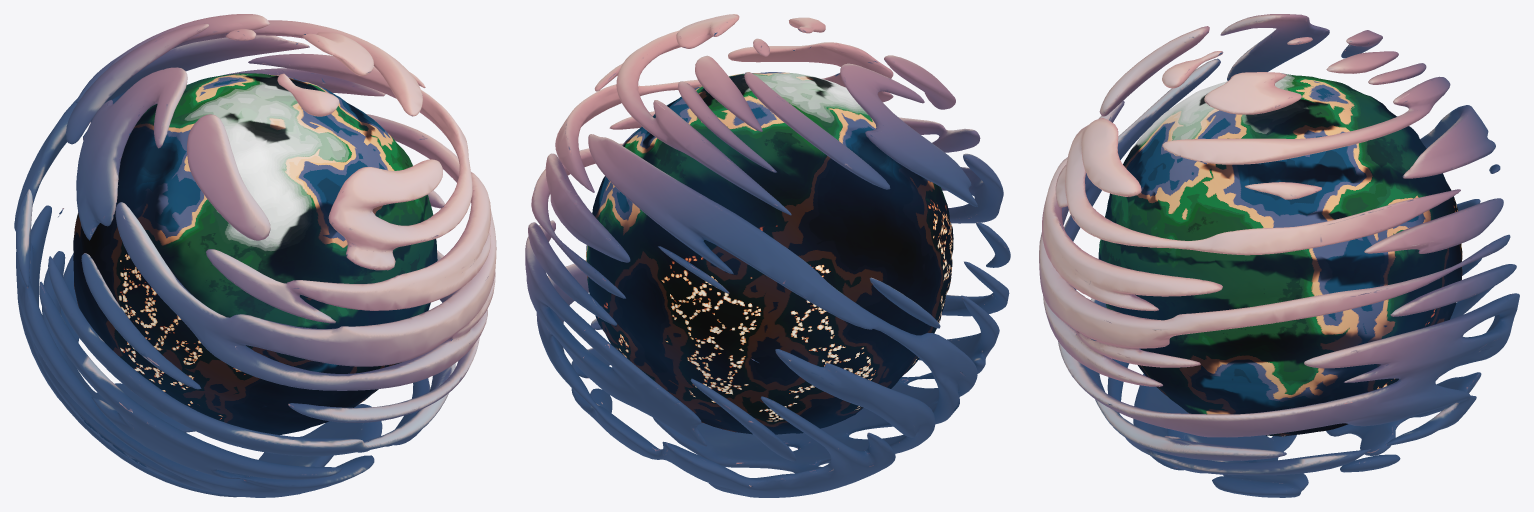
3 renders of one model, left to right at view 1: azimuth 30°, elevation 25°; view 2: azimuth 150°, elevation 25°; view 3: azimuth 270°, elevation 25°, orthographic.
Parts seen in each view (by area): view 1: Clouds_1, Planet_2; view 2: Clouds_1, Planet_2; view 3: Clouds_1, Planet_2.
Boxes of the visible parts, x1,y1,x2,y2 form: Clouds_1: (14, 14, 496, 497); Planet_2: (73, 73, 437, 434); Clouds_1: (525, 14, 1010, 497); Planet_2: (586, 72, 953, 434); Clouds_1: (1039, 14, 1519, 497); Planet_2: (1098, 73, 1462, 436).
Bounding box in the file's own units: 1.74 × 1.74 × 1.74.
2 materials, 2 textured.
